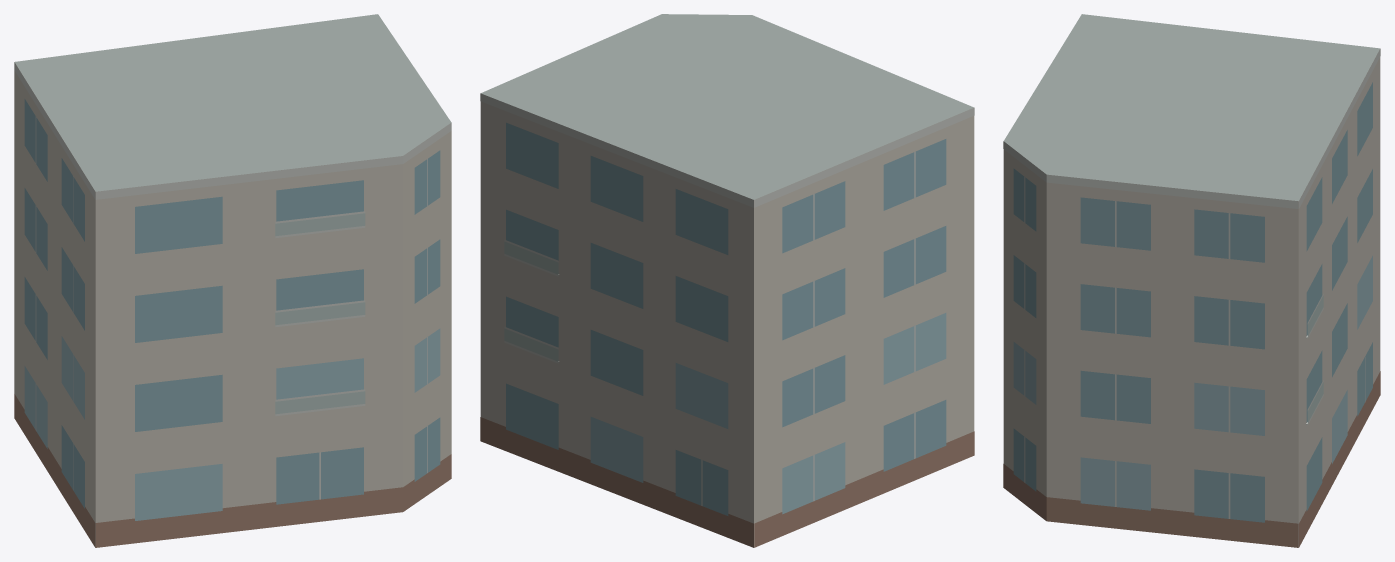
Rendered from survey-upis-32901173.glb.
The picture shows the model from 3 angles, left to right: view 1: azimuth 30°, elevation 25°; view 2: azimuth 150°, elevation 25°; view 3: azimuth 270°, elevation 25°; orthographic projection. The views are drawn at different scales.
Visible parts, largest first — view 1: survey-upis-32901173.tmp; view 2: survey-upis-32901173.tmp; view 3: survey-upis-32901173.tmp.
Boxes of the visible parts, x1,y1,x2,y2 form: survey-upis-32901173.tmp: (14, 14, 451, 547); survey-upis-32901173.tmp: (480, 14, 974, 547); survey-upis-32901173.tmp: (1003, 14, 1380, 547).
Bounding box in the file's own units: 12.28 × 10.6 × 10.45.
